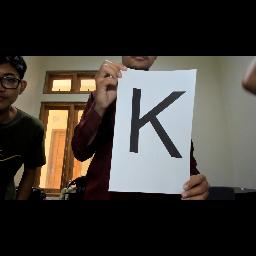k: (126, 84, 188, 162)
